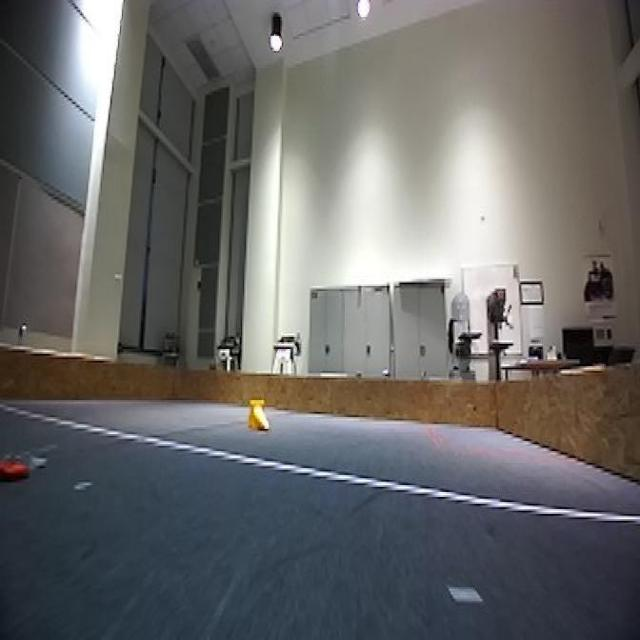frc_cone: (246, 400, 268, 434)
